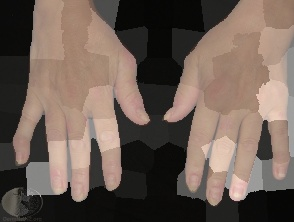Nail_psoriasis: (40, 164, 76, 200), (63, 175, 94, 206), (99, 163, 128, 195), (201, 180, 229, 210), (156, 99, 184, 126), (226, 176, 251, 205), (132, 98, 153, 126), (186, 168, 202, 195), (12, 143, 28, 168), (274, 159, 290, 180)
